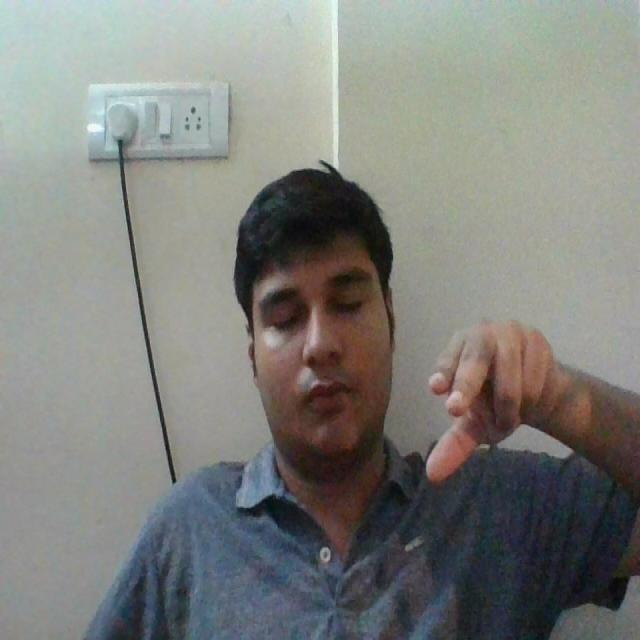no: (420, 318, 570, 482)
